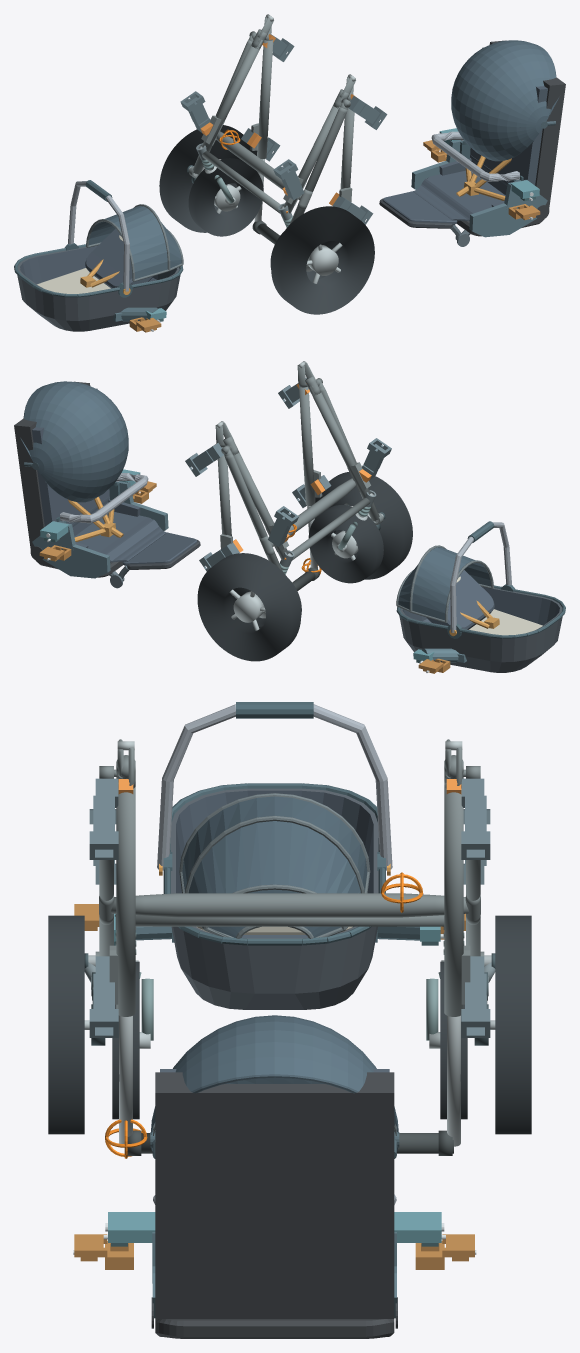
The model's file is D06_w650_state3_wheel_L.glb.
3 views of the same model, one above another, from view 1: azimuth 30°, elevation 25°; view 2: azimuth 150°, elevation 25°; view 3: azimuth 270°, elevation 25° (orthographic). The views are drawn at different scales.
Visible parts, largest first — view 1: D06_Lower, D06_Upper, RL_tire.011, FR_tire.011, RR_tire.011, D06_Lower_Mount_L, main_upper_1.012, main_lower_1.012, V46_rear_leg_-1.011, V46_rearbar.011, main_lower_-1.012, main_upper_-1.012 (+9 smaller); view 2: D06_Lower, D06_Upper, RR_tire.011, FL_tire.011, RL_tire.011, D06_Lower_Mount_L, main_upper_-1.012, main_lower_-1.012, V46_rear_leg_1.011, V46_rearbar.011, main_lower_1.012, main_upper_1.012 (+9 smaller); view 3: D06_Lower, D06_Upper, RL_tire.011, RR_tire.011, V46_rearbar.011, main_upper_1.012, main_upper_-1.012, D06_Lower_Mount_L, front_fixed_round_tube.011, Universal_Cabin_Receiver_M_-1, Universal_Cabin_Receiver_M_1, Universal_Cabin_Receiver_H_1 (+11 smaller).
Boxes of the visible parts, left/top/right/bottom form: D06_Lower: left=379, top=40, right=565, bottom=246; D06_Upper: left=14, top=180, right=183, bottom=331; RL_tire.011: left=271, top=206, right=374, bottom=314; FR_tire.011: left=188, top=158, right=263, bottom=236; RR_tire.011: left=159, top=125, right=257, bottom=232; D06_Lower_Mount_L: left=411, top=128, right=547, bottom=237; main_upper_1.012: left=257, top=40, right=273, bottom=159; main_lower_1.012: left=201, top=40, right=262, bottom=151; V46_rear_leg_-1.011: left=289, top=107, right=347, bottom=224; V46_rearbar.011: left=216, top=131, right=301, bottom=199; main_lower_-1.012: left=283, top=105, right=340, bottom=213; main_upper_-1.012: left=340, top=100, right=354, bottom=189; D06_Lower: left=14, top=381, right=200, bottom=588; D06_Upper: left=396, top=521, right=565, bottom=672; RR_tire.011: left=197, top=553, right=301, bottom=661; FL_tire.011: left=308, top=505, right=383, bottom=583; RL_tire.011: left=315, top=472, right=412, bottom=579; D06_Lower_Mount_L: left=32, top=469, right=168, bottom=578; main_upper_-1.012: left=299, top=386, right=315, bottom=505; main_lower_-1.012: left=309, top=386, right=370, bottom=498; V46_rear_leg_1.011: left=224, top=453, right=282, bottom=571; V46_rearbar.011: left=270, top=478, right=355, bottom=546; main_lower_1.012: left=231, top=451, right=288, bottom=560; main_upper_1.012: left=217, top=447, right=231, bottom=536; D06_Lower: left=150, top=1015, right=399, bottom=1338; D06_Upper: left=157, top=702, right=392, bottom=1009; RL_tire.011: left=48, top=915, right=84, bottom=1134; RR_tire.011: left=495, top=915, right=531, bottom=1134; V46_rearbar.011: left=111, top=893, right=468, bottom=917; main_upper_1.012: left=444, top=787, right=463, bottom=1016; main_upper_-1.012: left=116, top=787, right=135, bottom=1016; D06_Lower_Mount_L: left=103, top=1212, right=445, bottom=1318; front_fixed_round_tube.011: left=135, top=915, right=444, bottom=926; Universal_Cabin_Receiver_M_-1: left=89, top=778, right=118, bottom=859; Universal_Cabin_Receiver_M_1: left=461, top=778, right=490, bottom=859; Universal_Cabin_Receiver_H_1: left=461, top=956, right=490, bottom=1037.
Bounding box in the file's own units: 1.97 × 0.7726 × 0.796.
